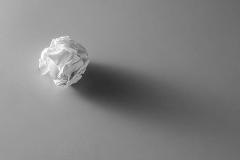paper: (38, 36, 90, 86)
